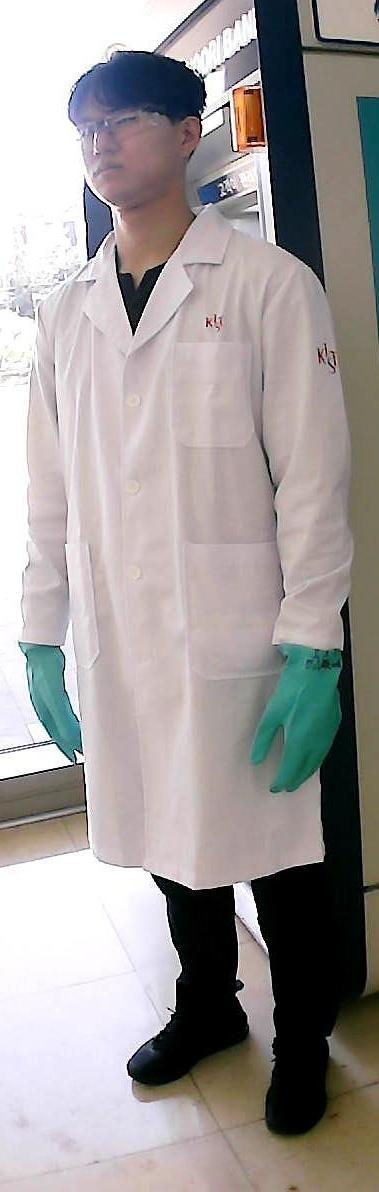lab_coat: (71, 271, 266, 865)
